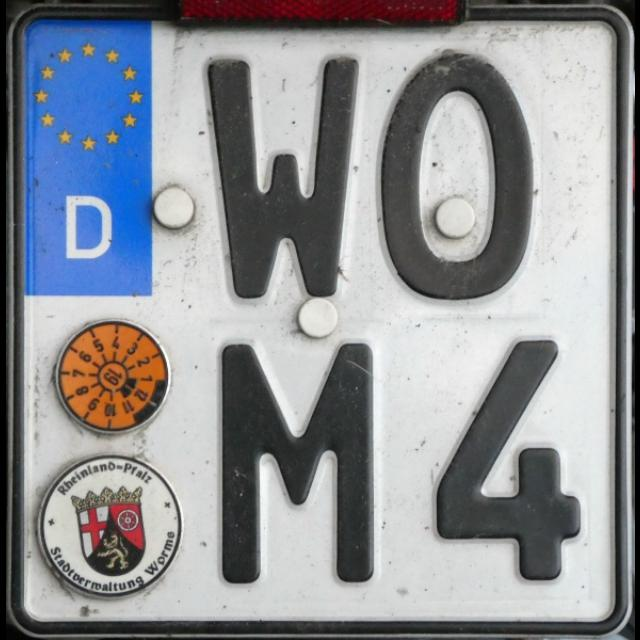d_license_plate: (16, 11, 624, 629)
